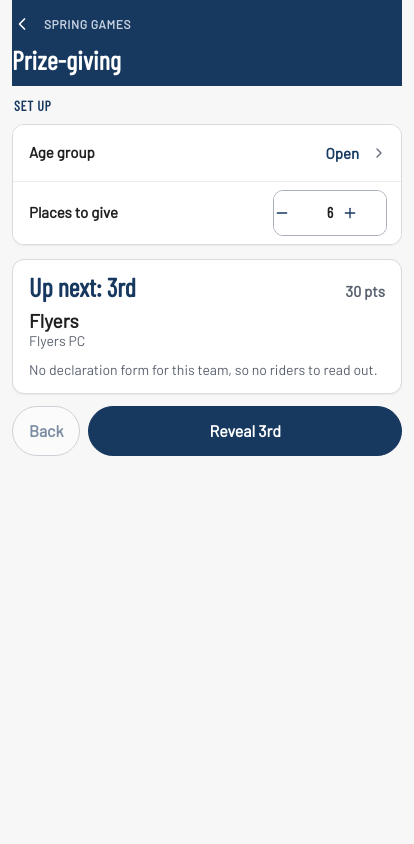
PrizeGivingPage › keeps the set-up while places are on the stream, and gives fewer places when asked
The width and height of the screenshot is (414, 844).
Check: the text "Up next: 3rd" is shown, box x1=29 y1=274 x2=136 y2=300
Step 1. Click the button named "Remove one place" → [296, 213], box x1=274 y1=191 x2=318 y2=235
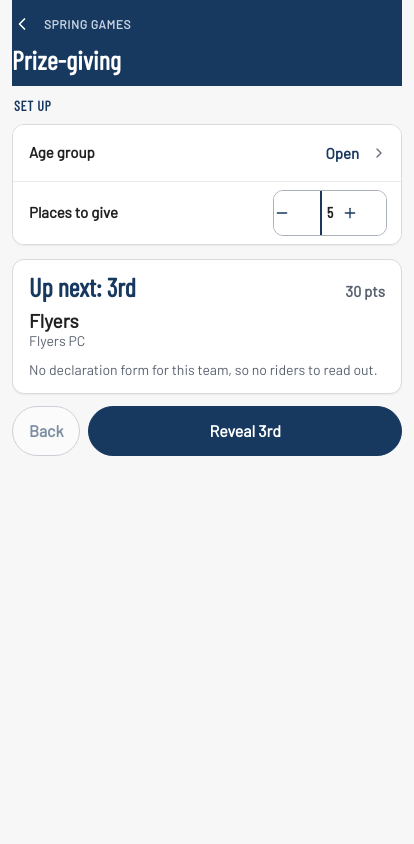
Step 2. Click the button named "Remove one place" → [296, 213], box x1=274 y1=191 x2=318 y2=235
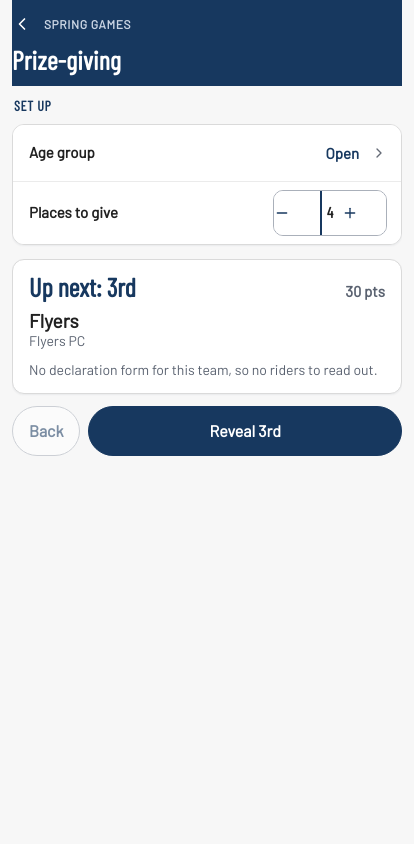
Step 3. Click the button named "Remove one place" → [296, 213], box x1=274 y1=191 x2=318 y2=235
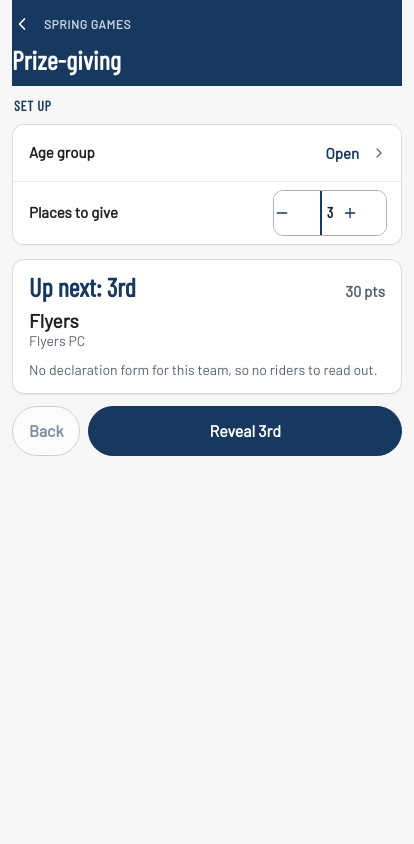
Step 4. Click the button named "Remove one place" → [296, 213], box x1=274 y1=191 x2=318 y2=235
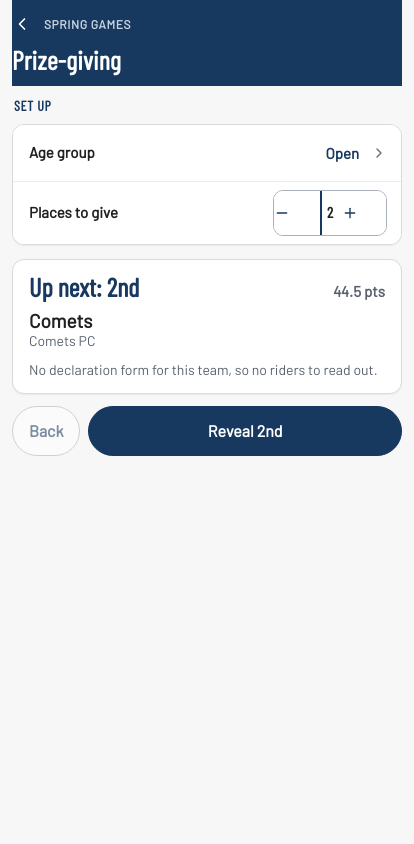
Check: the text "Up next: 2nd" is shown, box x1=29 y1=274 x2=139 y2=300
Step 5. Click the button "Reveal 2nd" → [245, 431], box x1=88 y1=406 x2=402 y2=456
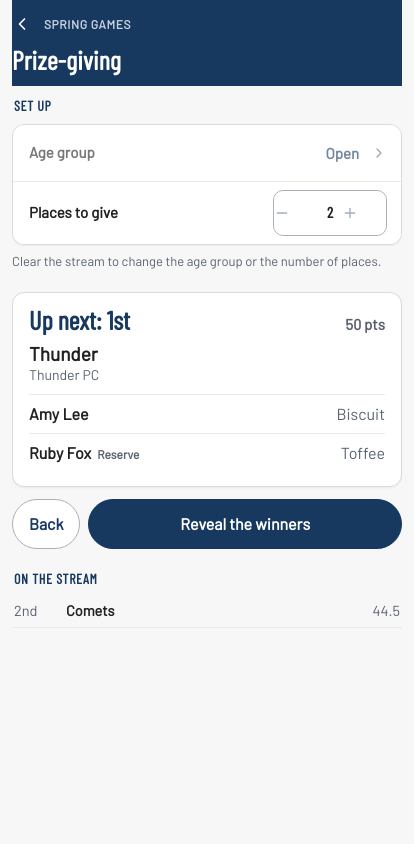
Check: the text "Clear the stream to change" is shown, box x1=12 y1=253 x2=381 y2=269
Check: the button named "Add one place" is disabled, box x1=342 y1=191 x2=386 y2=235
